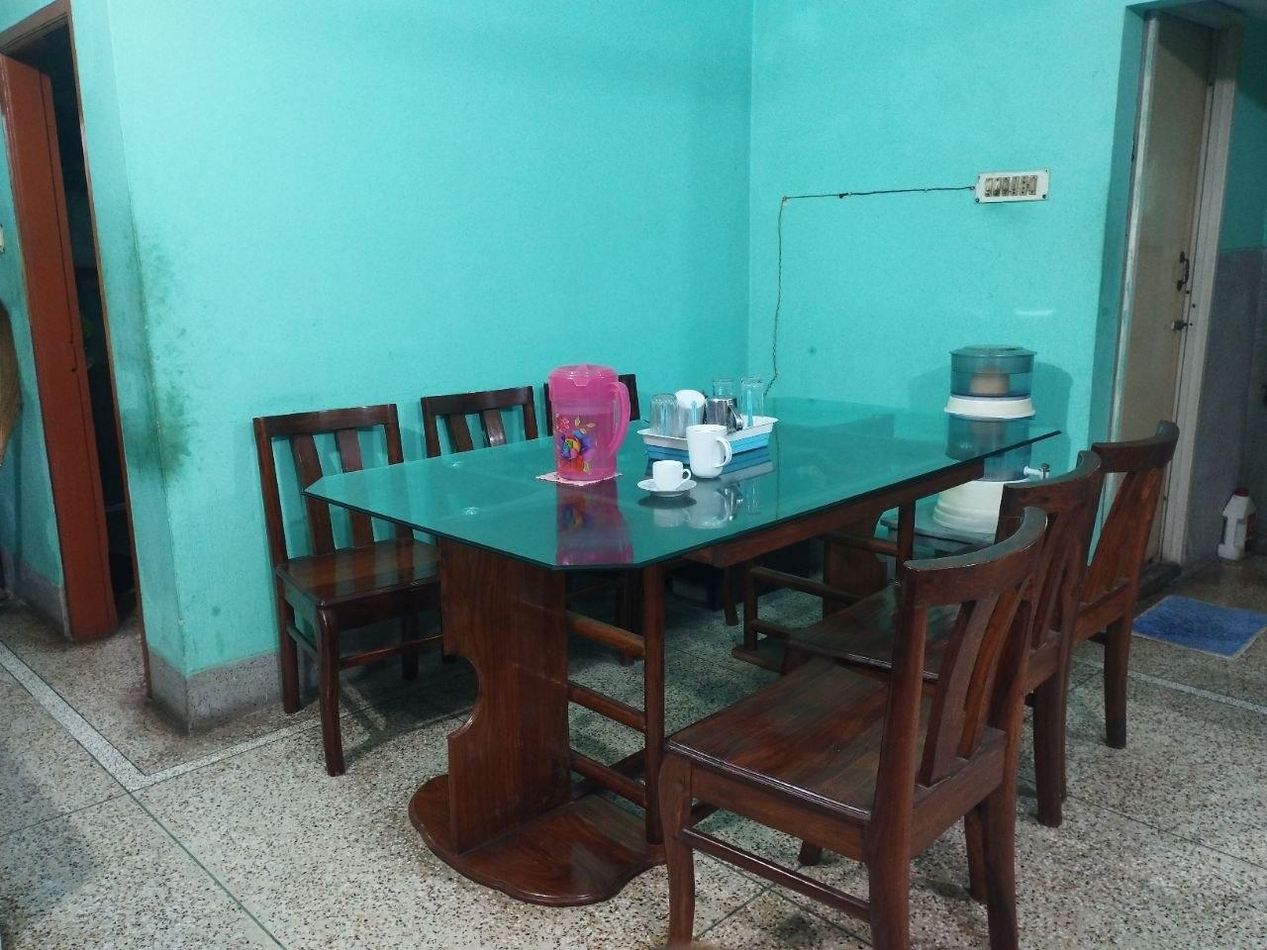Chair: (640, 472, 1049, 950), (773, 422, 1118, 833), (230, 387, 462, 801), (1059, 385, 1182, 775), (410, 371, 543, 462), (559, 351, 662, 426)
Cup: (627, 447, 714, 498)
Door: (1124, 0, 1243, 577)
Floor Mat: (1138, 551, 1265, 684)
Glass: (676, 401, 749, 503), (686, 365, 789, 430)
Jug: (531, 338, 636, 515)
Table: (301, 407, 1071, 916)
